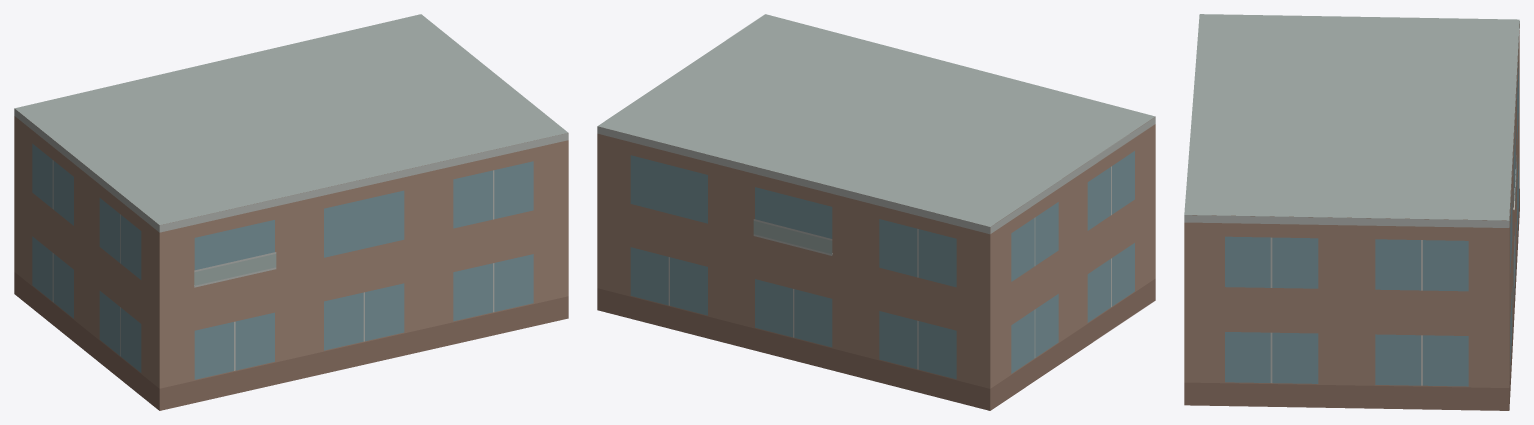
Rendered from survey-upis-32878979.glb.
3 renders of one model, left to right at view 1: azimuth 30°, elevation 25°; view 2: azimuth 150°, elevation 25°; view 3: azimuth 270°, elevation 25°, orthographic. The views are drawn at different scales.
Parts seen in each view (by area): view 1: survey-upis-32878979.tmp; view 2: survey-upis-32878979.tmp; view 3: survey-upis-32878979.tmp.
Boxes of the visible parts, left/top/right/bottom form: survey-upis-32878979.tmp: left=14, top=14, right=568, bottom=410; survey-upis-32878979.tmp: left=597, top=14, right=1155, bottom=410; survey-upis-32878979.tmp: left=1184, top=14, right=1519, bottom=410.
Size of the model in its own units: 14.2 by 6.1 by 9.75.
